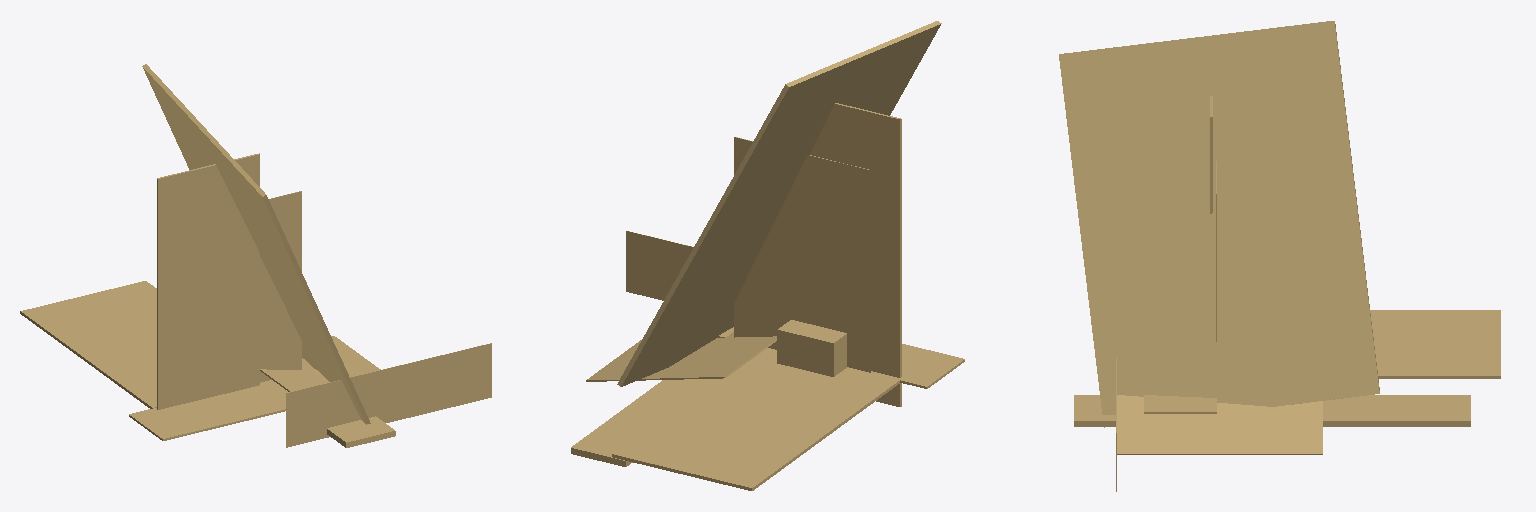
The robot description file, URDF, robot "evolved_design":
<?xml version="1.0" ?>
<robot name="evolved_design">
  <link name="base_link">
    <inertial>
      <mass value="0.001"/>
      <origin xyz="0 0 0" rpy="0 0 0"/>
      <inertia ixx="0.000001" ixy="0" ixz="0" iyy="0.000001" iyz="0" izz="0.000001"/>
    </inertial>
  </link>
  <link name="link_comp_0">
    <inertial>
      <mass value="0.510650"/>
      <origin xyz="0 0 0" rpy="0 0 0"/>
      <inertia ixx="0.000796665" ixy="0" ixz="0" iyy="0.001282043" iyz="0" izz="0.000698149"/>
    </inertial>
    <visual>
      <origin xyz="0 0 0" rpy="0 0 0"/>
      <geometry>
        <box size="0.117924 0.050000 0.127362"/>
      </geometry>
      <material name="link_comp_0_material">
        <color rgba="0.8 0.7 0.5 1"/>
      </material>
    </visual>
    <collision>
      <origin xyz="0 0 0" rpy="0 0 0"/>
      <geometry>
        <box size="0.117924 0.050000 0.127362"/>
      </geometry>
    </collision>
  </link>
  <joint name="base_link_to_link_comp_0" type="fixed">
    <parent link="base_link"/>
    <child link="link_comp_0"/>
    <origin xyz="0.058962 0.025000 0.063681" rpy="0.000000 0.000000 0.000000"/>
  </joint>
  <link name="link_comp_1">
    <inertial>
      <mass value="0.228196"/>
      <origin xyz="0 0 0" rpy="0 0 0"/>
      <inertia ixx="0.000365622" ixy="0" ixz="0" iyy="0.004943317" iyz="0" izz="0.005308082"/>
    </inertial>
    <visual>
      <origin xyz="0 0 0" rpy="0 0 0"/>
      <geometry>
        <box size="0.509832 0.138579 0.004750"/>
      </geometry>
      <material name="link_comp_1_material">
        <color rgba="0.8 0.7 0.5 1"/>
      </material>
    </visual>
    <collision>
      <origin xyz="0 0 0" rpy="0 0 0"/>
      <geometry>
        <box size="0.509832 0.138579 0.004750"/>
      </geometry>
    </collision>
  </link>
  <joint name="base_link_to_link_comp_1" type="fixed">
    <parent link="base_link"/>
    <child link="link_comp_1"/>
    <origin xyz="0.088088 -0.069790 0.056170" rpy="0.000000 0.000000 0.000000"/>
  </joint>
  <link name="link_comp_2">
    <inertial>
      <mass value="0.681705"/>
      <origin xyz="0 0 0" rpy="0 0 0"/>
      <inertia ixx="0.016380963" ixy="0" ixz="0" iyy="0.004913390" iyz="0" izz="0.021289772"/>
    </inertial>
    <visual>
      <origin xyz="0 0 0" rpy="0 0 0"/>
      <geometry>
        <box size="0.294023 0.536947 0.006350"/>
      </geometry>
      <material name="link_comp_2_material">
        <color rgba="0.8 0.7 0.5 1"/>
      </material>
    </visual>
    <collision>
      <origin xyz="0 0 0" rpy="0 0 0"/>
      <geometry>
        <box size="0.294023 0.536947 0.006350"/>
      </geometry>
    </collision>
  </link>
  <joint name="base_link_to_link_comp_2" type="fixed">
    <parent link="base_link"/>
    <child link="link_comp_2"/>
    <origin xyz="0.036494 0.268474 0.056245" rpy="0.000000 0.000000 0.000000"/>
  </joint>
  <link name="link_comp_3">
    <inertial>
      <mass value="0.253974"/>
      <origin xyz="0 0 0" rpy="0 0 0"/>
      <inertia ixx="0.003220805" ixy="0" ixz="0" iyy="0.001924868" iyz="0" izz="0.005145247"/>
    </inertial>
    <visual>
      <origin xyz="0 0 0" rpy="0 0 0"/>
      <geometry>
        <box size="0.301559 0.390089 0.003175"/>
      </geometry>
      <material name="link_comp_3_material">
        <color rgba="0.8 0.7 0.5 1"/>
      </material>
    </visual>
    <collision>
      <origin xyz="0 0 0" rpy="0 0 0"/>
      <geometry>
        <box size="0.301559 0.390089 0.003175"/>
      </geometry>
    </collision>
  </link>
  <joint name="base_link_to_link_comp_3" type="fixed">
    <parent link="base_link"/>
    <child link="link_comp_3"/>
    <origin xyz="0.286042 0.005262 0.049143" rpy="0.000000 0.252251 0.000000"/>
  </joint>
  <link name="link_comp_4">
    <inertial>
      <mass value="2.429465"/>
      <origin xyz="0 0 0" rpy="0 0 0"/>
      <inertia ixx="0.158677460" ixy="0" ixz="0" iyy="0.102332382" iyz="0" izz="0.056381814"/>
    </inertial>
    <visual>
      <origin xyz="0 0 0" rpy="0 0 0"/>
      <geometry>
        <box size="0.009525 0.527636 0.710891"/>
      </geometry>
      <material name="link_comp_4_material">
        <color rgba="0.8 0.7 0.5 1"/>
      </material>
    </visual>
    <collision>
      <origin xyz="0 0 0" rpy="0 0 0"/>
      <geometry>
        <box size="0.009525 0.527636 0.710891"/>
      </geometry>
    </collision>
  </link>
  <joint name="base_link_to_link_comp_4" type="fixed">
    <parent link="base_link"/>
    <child link="link_comp_4"/>
    <origin xyz="0.140025 0.004392 0.355445" rpy="0.165202 -0.430720 -0.104812"/>
  </joint>
  <link name="link_comp_5">
    <inertial>
      <mass value="0.040015"/>
      <origin xyz="0 0 0" rpy="0 0 0"/>
      <inertia ixx="0.000049658" ixy="0" ixz="0" iyy="0.000825083" iyz="0" izz="0.000775431"/>
    </inertial>
    <visual>
      <origin xyz="0 0 0" rpy="0 0 0"/>
      <geometry>
        <box size="0.482226 0.001000 0.122029"/>
      </geometry>
      <material name="link_comp_5_material">
        <color rgba="0.8 0.7 0.5 1"/>
      </material>
    </visual>
    <collision>
      <origin xyz="0 0 0" rpy="0 0 0"/>
      <geometry>
        <box size="0.482226 0.001000 0.122029"/>
      </geometry>
    </collision>
  </link>
  <joint name="base_link_to_link_comp_5" type="fixed">
    <parent link="base_link"/>
    <child link="link_comp_5"/>
    <origin xyz="0.332709 -0.190663 0.061014" rpy="0.000000 0.000000 0.000000"/>
  </joint>
  <link name="link_comp_6">
    <inertial>
      <mass value="0.447775"/>
      <origin xyz="0 0 0" rpy="0 0 0"/>
      <inertia ixx="0.012396450" ixy="0" ixz="0" iyy="0.014554545" iyz="0" izz="0.002159779"/>
    </inertial>
    <visual>
      <origin xyz="0 0 0" rpy="0 0 0"/>
      <geometry>
        <box size="0.240536 0.004750 0.576361"/>
      </geometry>
      <material name="link_comp_6_material">
        <color rgba="0.8 0.7 0.5 1"/>
      </material>
    </visual>
    <collision>
      <origin xyz="0 0 0" rpy="0 0 0"/>
      <geometry>
        <box size="0.240536 0.004750 0.576361"/>
      </geometry>
    </collision>
  </link>
  <joint name="base_link_to_link_comp_6" type="fixed">
    <parent link="base_link"/>
    <child link="link_comp_6"/>
    <origin xyz="0.014494 -0.010823 0.288181" rpy="0.000000 0.000000 0.000000"/>
  </joint>
  <link name="link_comp_7">
    <inertial>
      <mass value="0.138134"/>
      <origin xyz="0 0 0" rpy="0 0 0"/>
      <inertia ixx="0.002485547" ixy="0" ixz="0" iyy="0.003432714" iyz="0" izz="0.000947220"/>
    </inertial>
    <visual>
      <origin xyz="0 0 0" rpy="0 0 0"/>
      <geometry>
        <box size="0.286853 0.001524 0.464674"/>
      </geometry>
      <material name="link_comp_7_material">
        <color rgba="0.8 0.7 0.5 1"/>
      </material>
    </visual>
    <collision>
      <origin xyz="0 0 0" rpy="0 0 0"/>
      <geometry>
        <box size="0.286853 0.001524 0.464674"/>
      </geometry>
    </collision>
  </link>
  <joint name="base_link_to_link_comp_7" type="fixed">
    <parent link="base_link"/>
    <child link="link_comp_7"/>
    <origin xyz="0.094326 -0.001262 0.232337" rpy="0.000000 0.000000 0.000000"/>
  </joint>
  <link name="link_comp_8">
    <inertial>
      <mass value="0.752391"/>
      <origin xyz="0 0 0" rpy="0 0 0"/>
      <inertia ixx="0.035443700" ixy="0" ixz="0" iyy="0.000852228" iyz="0" izz="0.036275702"/>
    </inertial>
    <visual>
      <origin xyz="0 0 0" rpy="0 0 0"/>
      <geometry>
        <box size="0.115892 0.751755 0.012700"/>
      </geometry>
      <material name="link_comp_8_material">
        <color rgba="0.8 0.7 0.5 1"/>
      </material>
    </visual>
    <collision>
      <origin xyz="0 0 0" rpy="0 0 0"/>
      <geometry>
        <box size="0.115892 0.751755 0.012700"/>
      </geometry>
    </collision>
  </link>
  <joint name="base_link_to_link_comp_8" type="fixed">
    <parent link="base_link"/>
    <child link="link_comp_8"/>
    <origin xyz="0.244918 0.104403 0.015387" rpy="0.000000 0.000000 0.000000"/>
  </joint>
</robot>

--- Facts derived from the render (not from the file) ---
Views: 3 orthographic renders of the robot side by side, from view 1: azimuth 30°, elevation 25°; view 2: azimuth 150°, elevation 25°; view 3: azimuth 270°, elevation 25°.
Model evolved_design with 10 links and 9 joints (9 fixed), rooted at base_link, posed all joints at 0.
Links seen in each view (by area): view 1: link_comp_6, link_comp_5, link_comp_4, link_comp_2, link_comp_1, link_comp_7, link_comp_3, link_comp_8; view 2: link_comp_4, link_comp_2, link_comp_7, link_comp_6, link_comp_8, link_comp_3, link_comp_5, link_comp_0, link_comp_1; view 3: link_comp_4, link_comp_3, link_comp_2, link_comp_8, link_comp_1.
Boxes of the visible links, x1=… form: link_comp_6: x1=157, y1=153, x2=259, y2=409; link_comp_5: x1=286, y1=343, x2=491, y2=447; link_comp_4: x1=142, y1=64, x2=370, y2=424; link_comp_2: x1=20, y1=281, x2=156, y2=408; link_comp_1: x1=129, y1=361, x2=362, y2=440; link_comp_7: x1=260, y1=191, x2=301, y2=382; link_comp_3: x1=260, y1=336, x2=380, y2=391; link_comp_8: x1=327, y1=416, x2=395, y2=447; link_comp_4: x1=617, y1=21, x2=941, y2=386; link_comp_2: x1=612, y1=348, x2=899, y2=490; link_comp_7: x1=734, y1=137, x2=870, y2=372; link_comp_6: x1=810, y1=103, x2=901, y2=406; link_comp_8: x1=571, y1=379, x2=713, y2=466; link_comp_3: x1=586, y1=332, x2=776, y2=381; link_comp_5: x1=626, y1=231, x2=693, y2=300; link_comp_0: x1=777, y1=320, x2=846, y2=376; link_comp_1: x1=717, y1=327, x2=964, y2=388; link_comp_4: x1=1059, y1=21, x2=1379, y2=427; link_comp_3: x1=1117, y1=395, x2=1322, y2=454; link_comp_2: x1=1370, y1=310, x2=1500, y2=378; link_comp_8: x1=1074, y1=395, x2=1470, y2=426; link_comp_1: x1=1144, y1=395, x2=1216, y2=413.
Size in the robot's own frame: 0.7407 by 0.8365 by 0.72 metres.
Geometry: primitives only (box / cylinder / sphere), no mesh files.